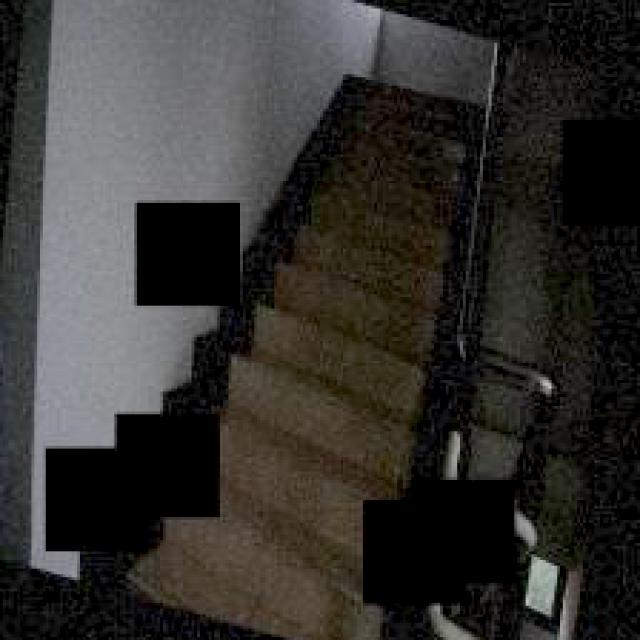upstair: (247, 273, 352, 576)
